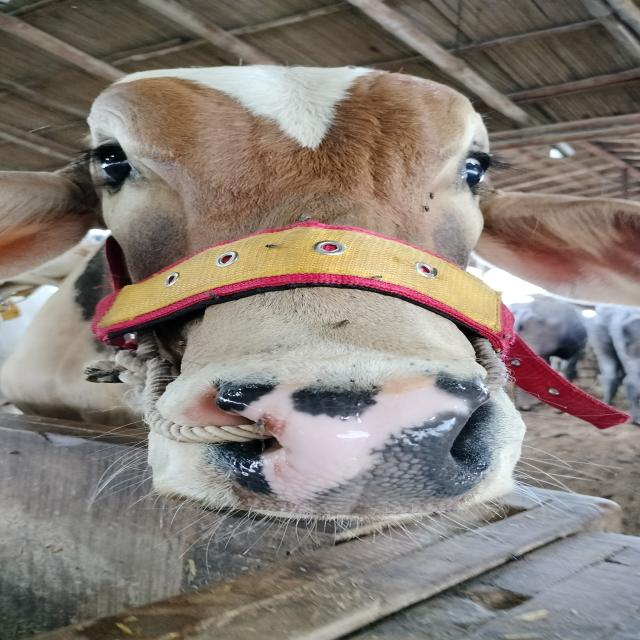muzzles: (177, 368, 519, 516)
